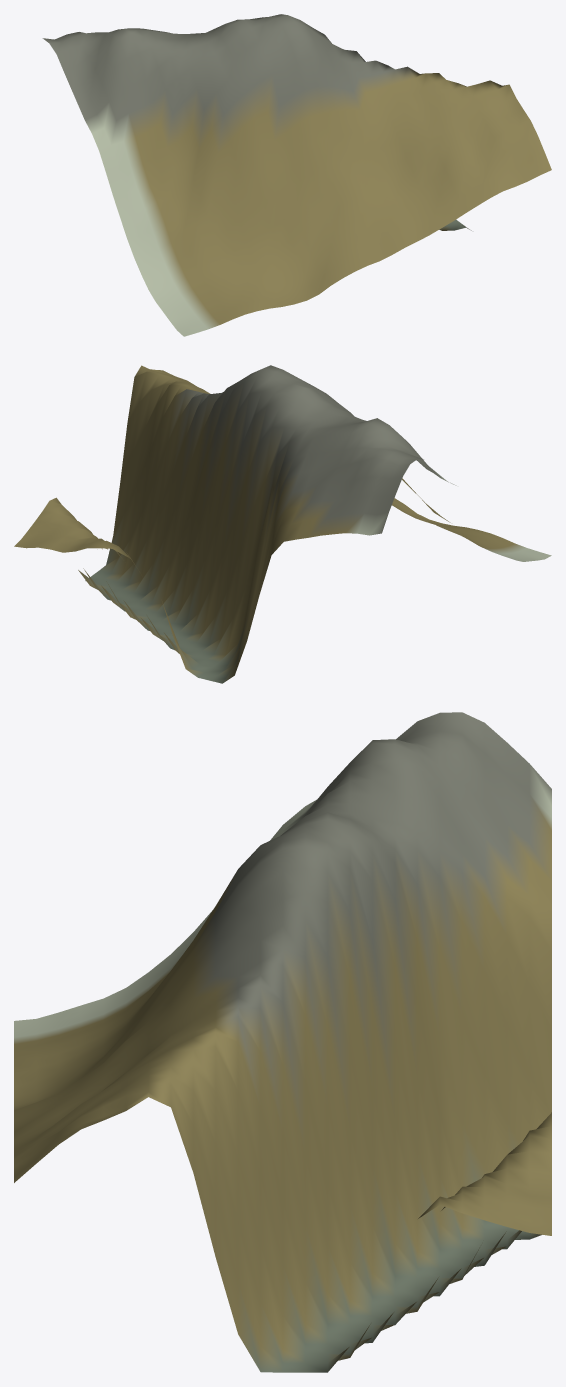
3 views of the same model, one above another, from view 1: azimuth 30°, elevation 25°; view 2: azimuth 150°, elevation 25°; view 3: azimuth 270°, elevation 25° (orthographic). The views are drawn at different scales.
Visible parts, largest first — view 1: world-ground/180-168; view 2: world-ground/180-168; view 3: world-ground/180-168.
Part boxes in pixels (box(x1,y1,x2,y2)): world-ground/180-168: box(42, 14, 551, 336); world-ground/180-168: box(14, 365, 551, 683); world-ground/180-168: box(14, 712, 551, 1372).
Bounding box in the file's own units: 37.5 × 24.25 × 30.
